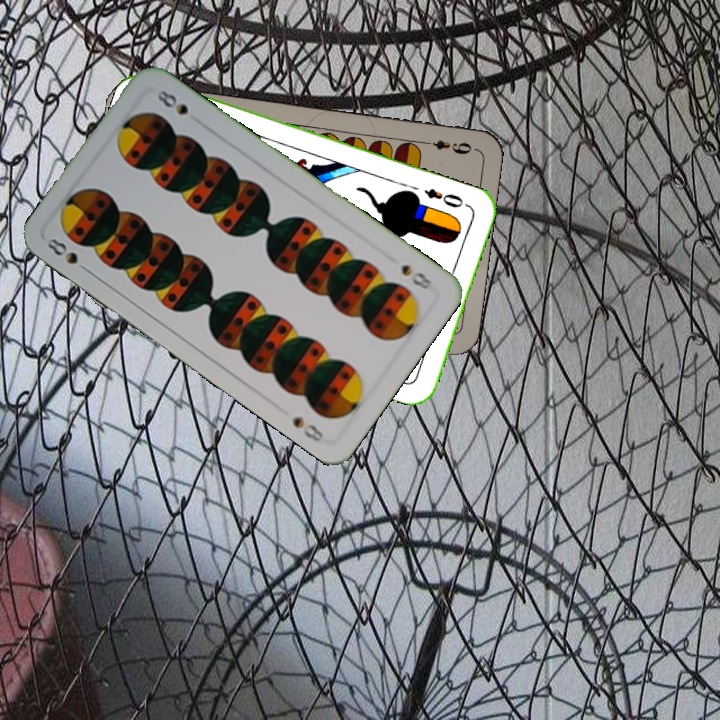E9: (418, 136, 477, 157)
EO: (420, 184, 466, 211)
S8: (43, 234, 94, 276), (397, 260, 435, 294)
